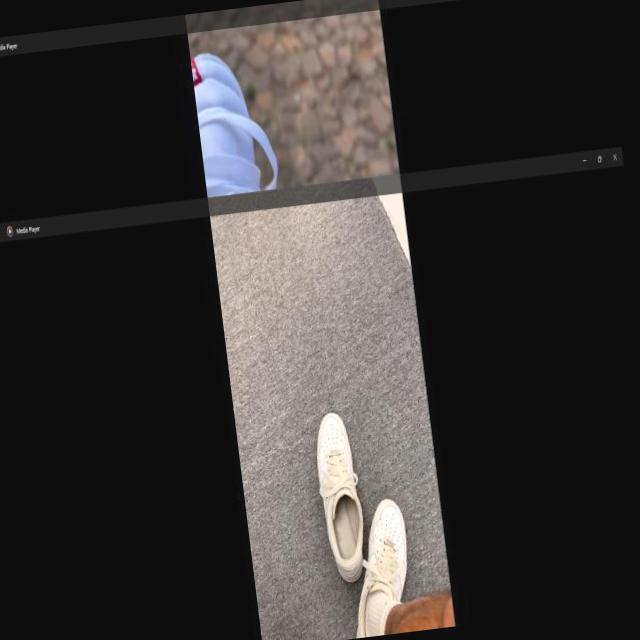nike_original_airforce: (338, 496, 418, 638), (310, 409, 370, 585)
